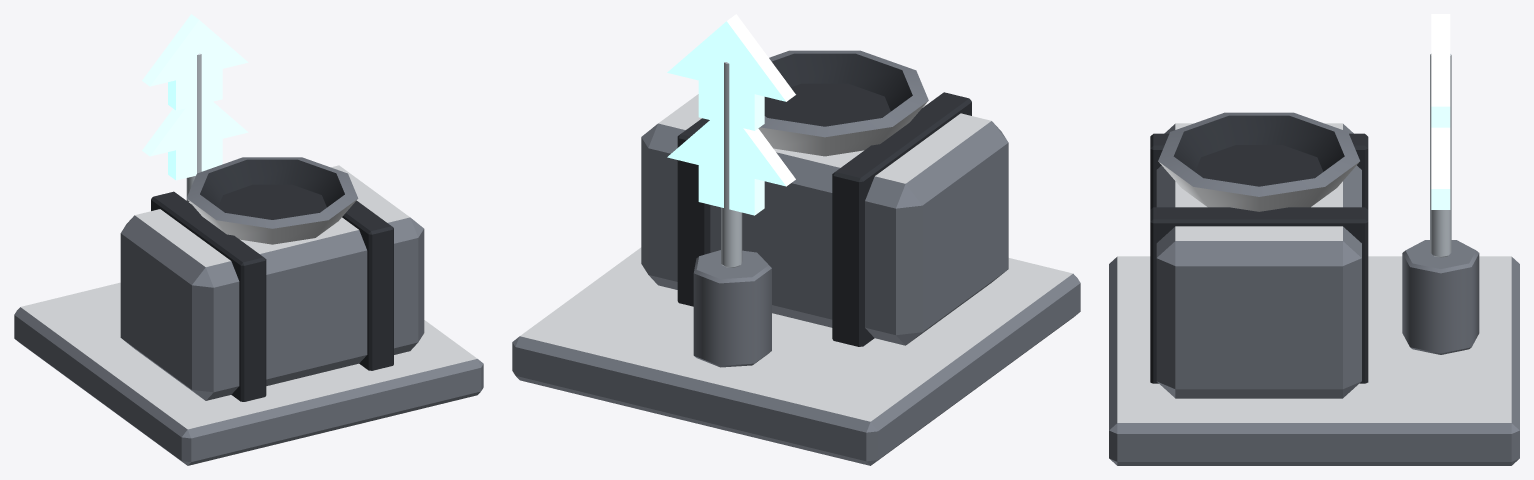
Rendered from R4X_CargoUplink_LOD1.fbx.
The picture shows the model from 3 angles, left to right: view 1: azimuth 30°, elevation 25°; view 2: azimuth 150°, elevation 25°; view 3: azimuth 270°, elevation 25°; orthographic projection. The views are drawn at different scales.
Parts seen in each view (by area): view 1: R4X_CargoUplink_LOD1; view 2: R4X_CargoUplink_LOD1; view 3: R4X_CargoUplink_LOD1.
Part boxes in pixels (x1,y1,x2,y2): R4X_CargoUplink_LOD1: (14,14,483,465); R4X_CargoUplink_LOD1: (512,14,1080,465); R4X_CargoUplink_LOD1: (1109,14,1519,465).
Bounding box in the file's own units: 0.52 × 0.515 × 0.52.
